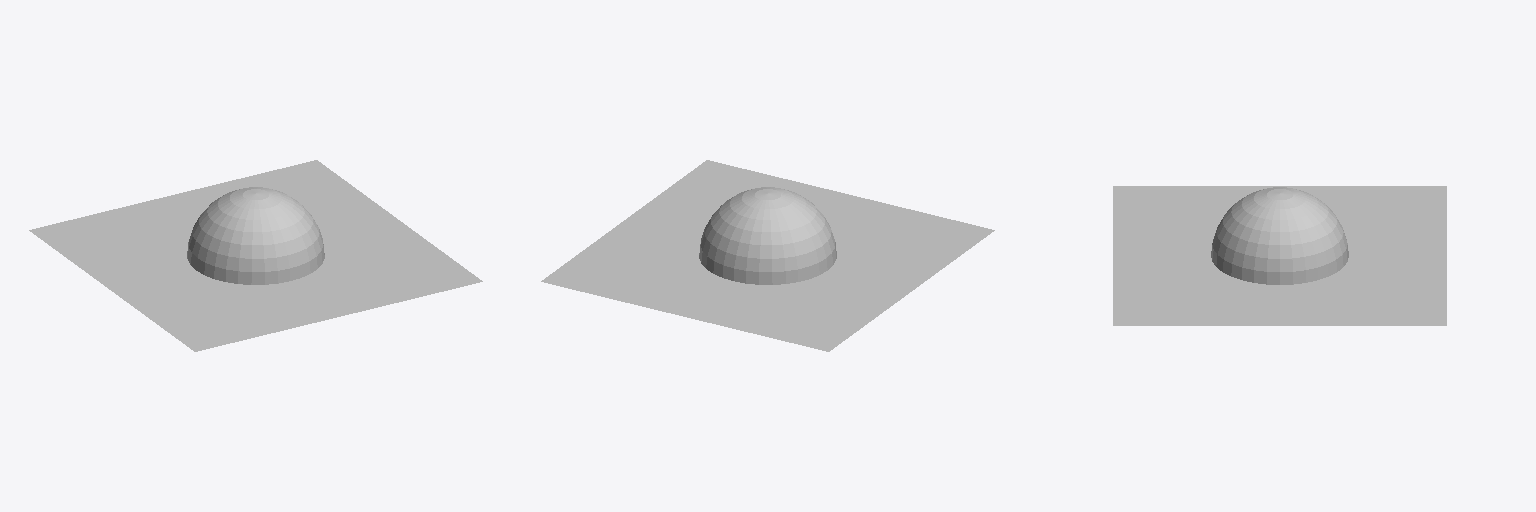
Rendered from uranus_low_poly.obj.
The picture shows the model from 3 angles: view 1: azimuth 30°, elevation 25°; view 2: azimuth 150°, elevation 25°; view 3: azimuth 270°, elevation 25°; orthographic projection.
Visible parts, largest first — view 1: Plane_Plane.002, Sphere_Sphere.002; view 2: Plane_Plane.002, Sphere_Sphere.002; view 3: Plane_Plane.002, Sphere_Sphere.002.
Boxes of the visible parts, <box> form: Plane_Plane.002: <box>29,160,482,351</box>; Sphere_Sphere.002: <box>187,187,324,284</box>; Plane_Plane.002: <box>541,160,994,351</box>; Sphere_Sphere.002: <box>699,187,836,284</box>; Plane_Plane.002: <box>1113,186,1446,325</box>; Sphere_Sphere.002: <box>1211,187,1348,284</box>.
Bounding box in the file's own units: 4.83 × 2 × 4.83.